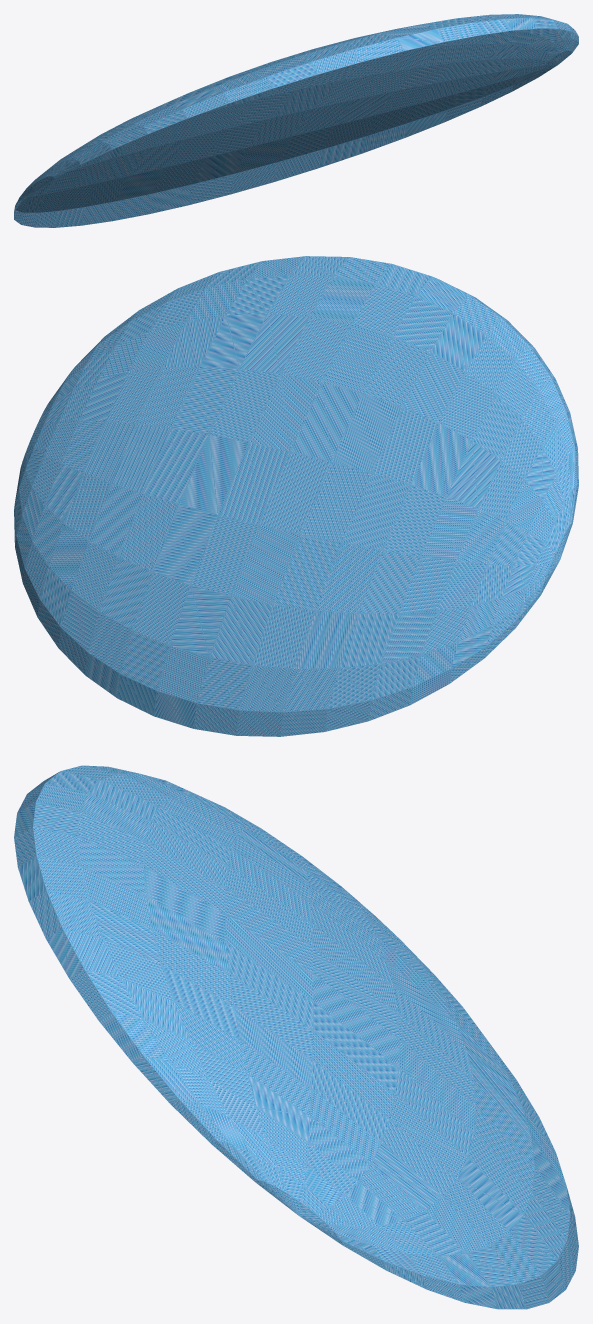
Rendered from Stage.obj.
3 views of the same model, one above another, from view 1: azimuth 30°, elevation 25°; view 2: azimuth 150°, elevation 25°; view 3: azimuth 270°, elevation 25° (orthographic). The views are drawn at different scales.
Size of the model in its own units: 12115 by 6940 by 8401.
